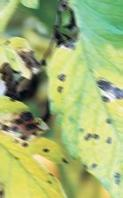Tomato leaf bacterial spot: (52, 36, 123, 198), (0, 97, 74, 198)
